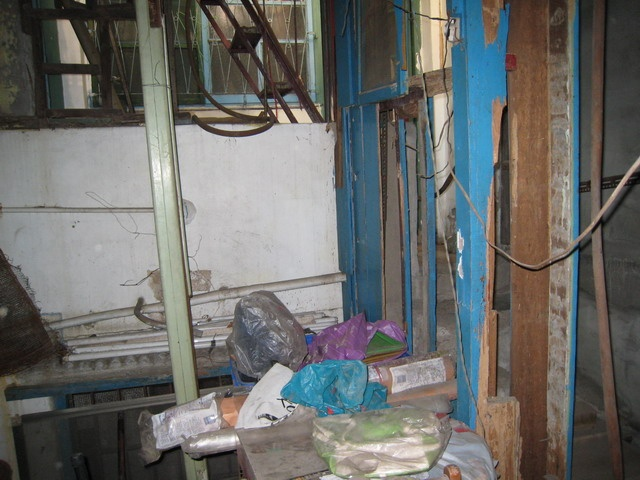plastic_bag: (314, 407, 451, 480), (231, 293, 307, 379), (281, 359, 388, 415)
